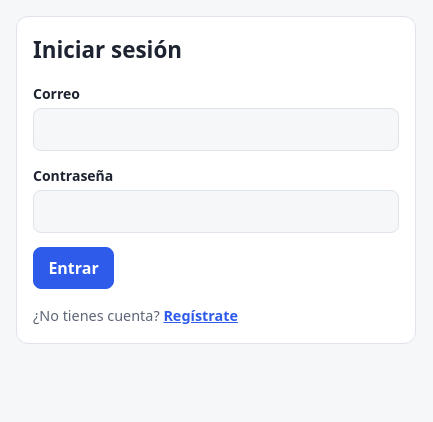
LoginComponent › muestra el mensaje del servidor si las credenciales son incorrectas
This screenshot has width=433, height=422.
In the field with id "email": [216, 129] box [33,108,399,151], type "ana@test.com"
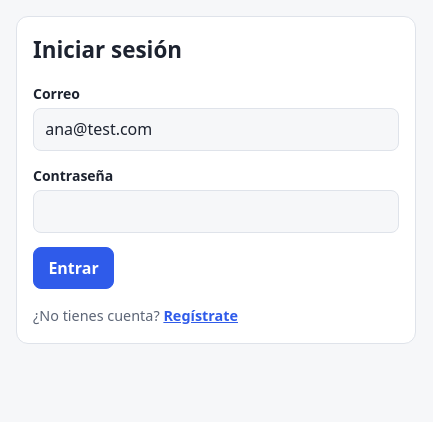
In the password field labelled "Contraseña": [216, 212] box [33,190,399,233], type "Password123!"
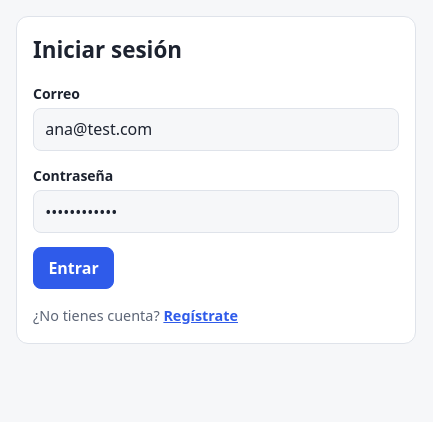
Submit the form, box [33,83,399,289]
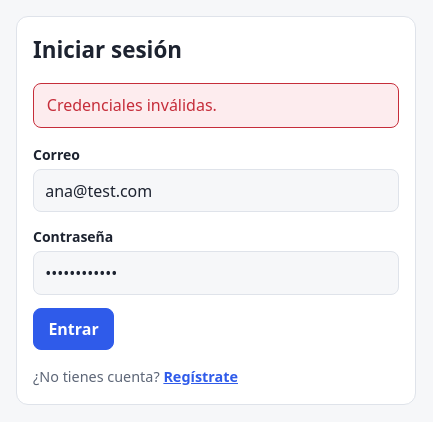
Expected: the submit button is enabled, [33,308,114,350]
Result: the message "Credenciales inválidas." is shown at [33,83,399,128]
